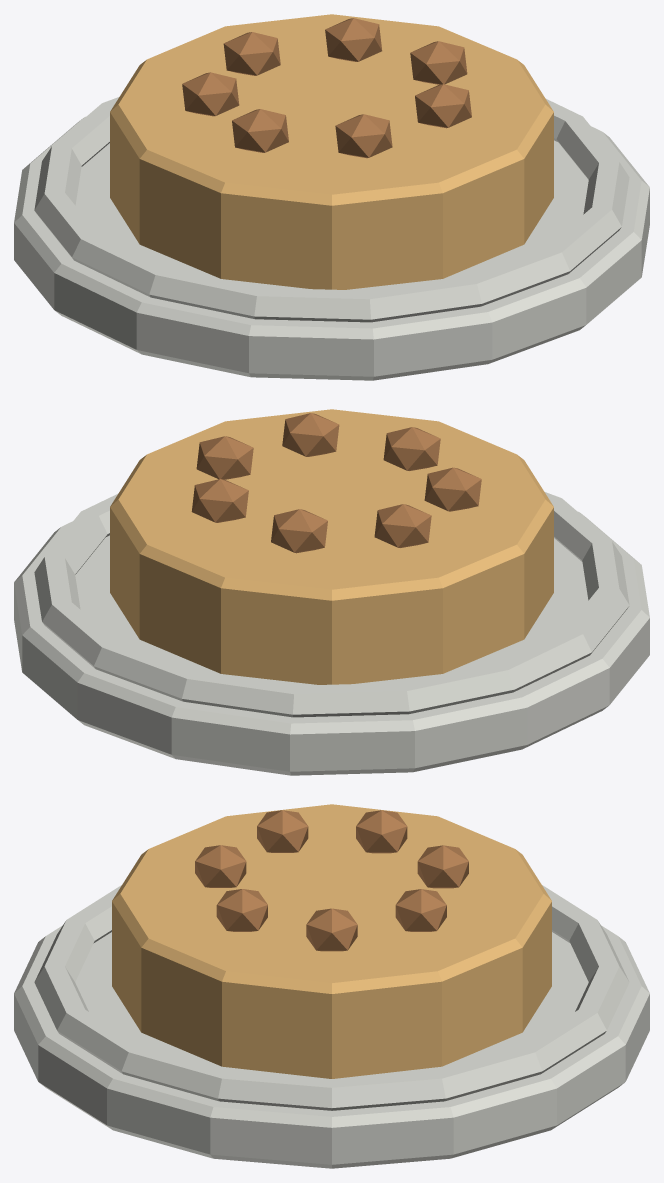
Rendered from hazelnut_pie.glb.
3 views of the same model, one above another, from view 1: azimuth 30°, elevation 25°; view 2: azimuth 150°, elevation 25°; view 3: azimuth 270°, elevation 25° (orthographic).
Parts seen in each view (by area): view 1: FTF_Dish_HazelnutPie_StaticMesh; view 2: FTF_Dish_HazelnutPie_StaticMesh; view 3: FTF_Dish_HazelnutPie_StaticMesh.
Part boxes in pixels (bbox=[...]): FTF_Dish_HazelnutPie_StaticMesh: bbox=[14, 14, 649, 380]; FTF_Dish_HazelnutPie_StaticMesh: bbox=[14, 409, 649, 775]; FTF_Dish_HazelnutPie_StaticMesh: bbox=[14, 804, 649, 1168].
Bounding box in the file's own units: 0.78 × 0.245 × 0.78.
